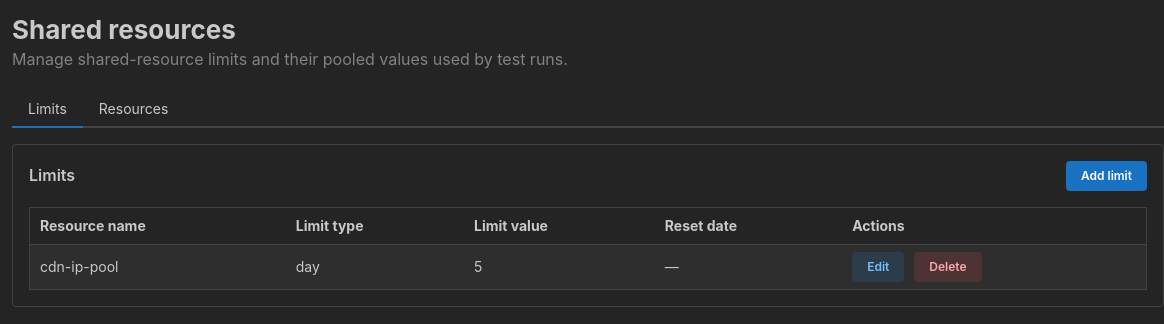
Test: SharedResourcesPanel › renders limits and resources on separate tabs
The width and height of the screenshot is (1164, 324).
Expected: the button with aria-label "Edit limit cdn-ip-pool" is shown, [852,252,904,282]
Click the tab "Resources" at (134, 110), box [83,92,184,128]
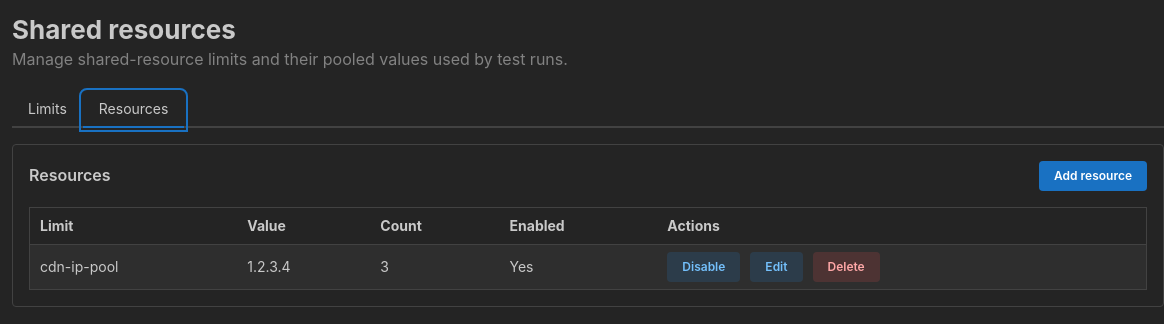
Expected: the button with aria-label "Edit resource 1.2.3.4" is shown, [750,252,802,282]
